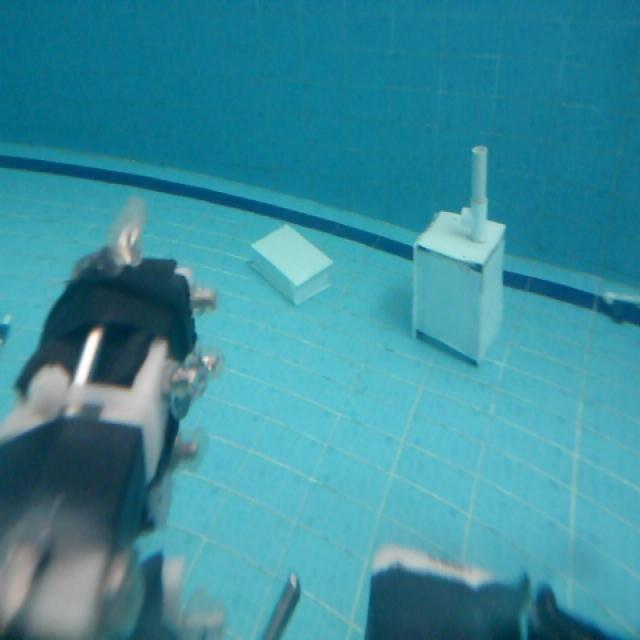Cube: (407, 204, 514, 370)
Cuboid: (248, 220, 334, 305)
